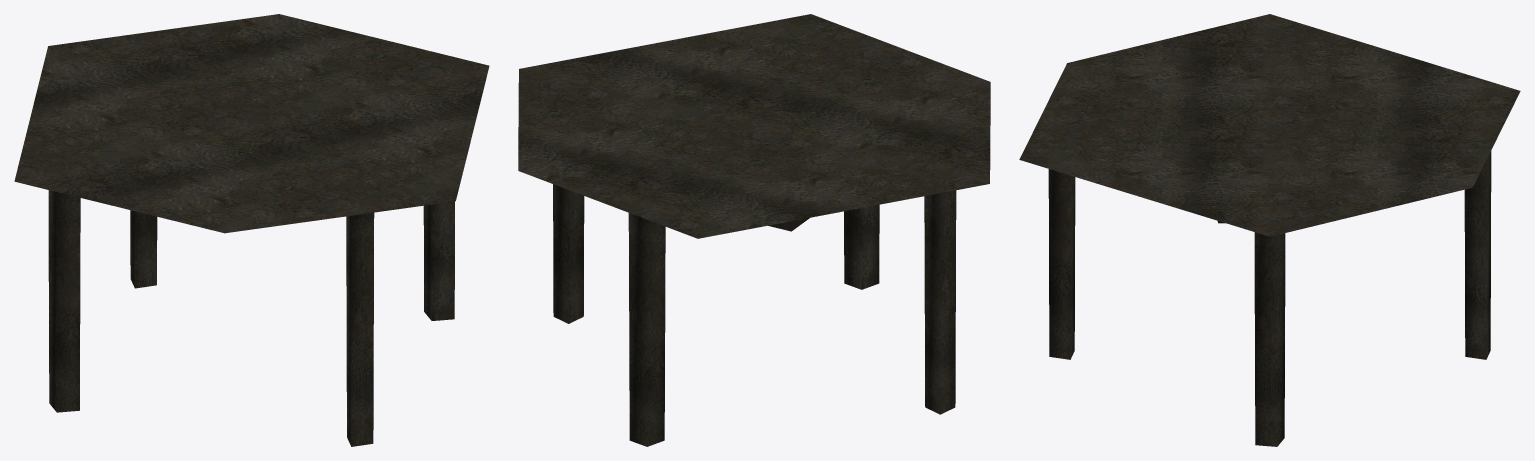
File: frn_tato_table_small_s01_l2.fbx
3 renders of one model, left to right at view 1: azimuth 30°, elevation 25°; view 2: azimuth 150°, elevation 25°; view 3: azimuth 270°, elevation 25°, orthographic. The views are drawn at different scales.
Visible parts, largest first — view 1: mesh_node; view 2: mesh_node; view 3: mesh_node.
Part boxes in pixels (x1,y1,x2,y2): mesh_node: (14, 14, 489, 446); mesh_node: (518, 14, 990, 446); mesh_node: (1019, 14, 1520, 446).
Size of the model in its own units: 1.3 by 0.6233 by 1.24.
Materials: 1 (1 with a texture image).
